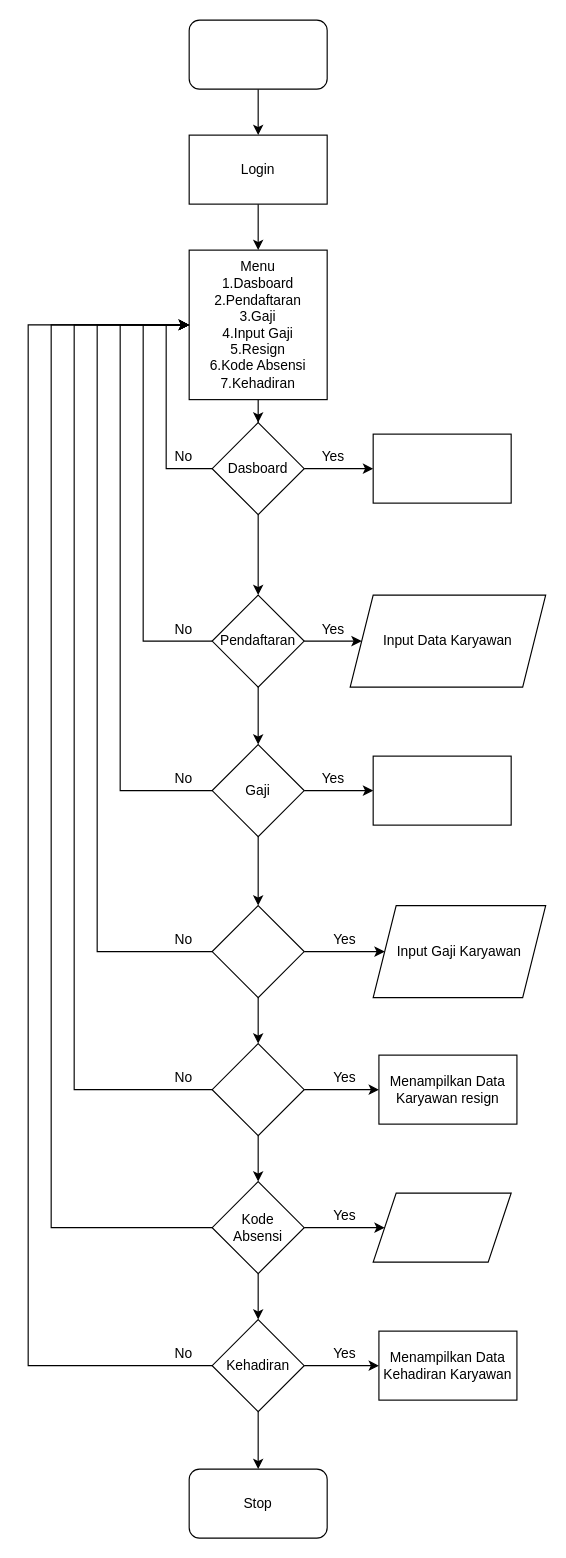
Image size: 566x1558. Some labels were removed from this diagram. Each missing label, with the centre of its shape:
"Create QR code" belongs at (x=441, y=1227).
"Input Gaji" belongs at (x=257, y=951).
"Menampilkan Data Gaji Karyawan" belongs at (x=441, y=790).
"Menampilkan Data User" belongs at (x=441, y=468).
"Resign" belongs at (x=257, y=1089).
"start" belongs at (x=257, y=54).
